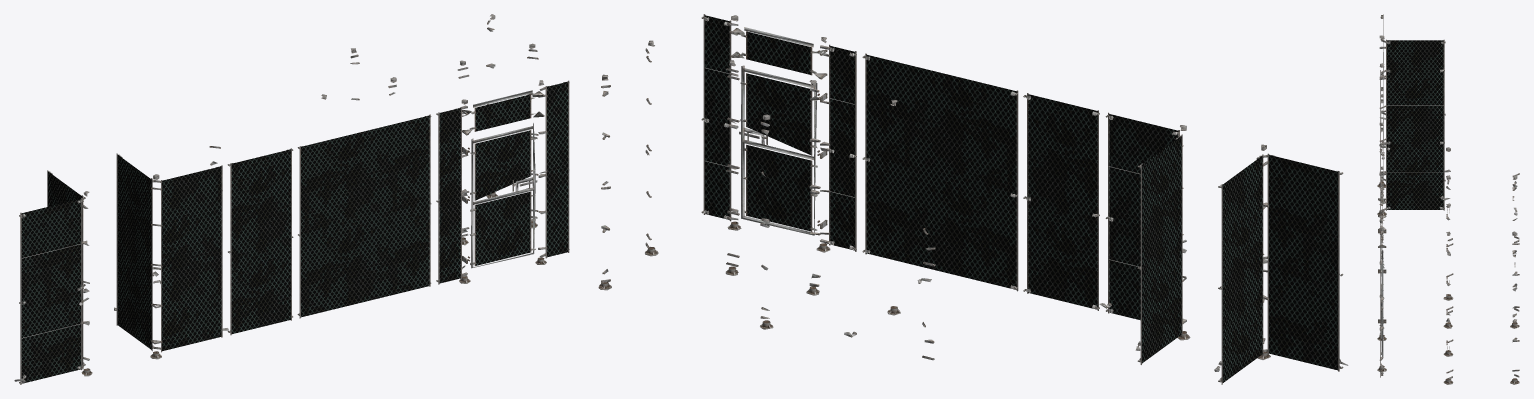
File: modular_chainlink_fence.glb
The picture shows the model from 3 angles, left to right: view 1: azimuth 30°, elevation 25°; view 2: azimuth 150°, elevation 25°; view 3: azimuth 270°, elevation 25°; orthographic projection. The views are drawn at different scales.
Parts seen in each view (by area): view 1: modular_chainlink_fence_door_gate, modular_chainlink_fence_door_latch; view 2: modular_chainlink_fence_door_gate, modular_chainlink_fence_door_latch; view 3: modular_chainlink_fence_door_gate, modular_chainlink_fence_door_latch.
Part boxes in pixels (<box>): modular_chainlink_fence_door_gate: <box>21,81,568,383</box>; modular_chainlink_fence_door_latch: <box>14,14,569,384</box>; modular_chainlink_fence_door_gate: <box>705,15,1337,382</box>; modular_chainlink_fence_door_latch: <box>598,14,1348,384</box>; modular_chainlink_fence_door_gate: <box>1387,40,1443,209</box>; modular_chainlink_fence_door_latch: <box>1377,14,1519,384</box>.
Size of the model in its own units: 8.11 by 2.5 by 2.15.
2 materials, 2 textured.
